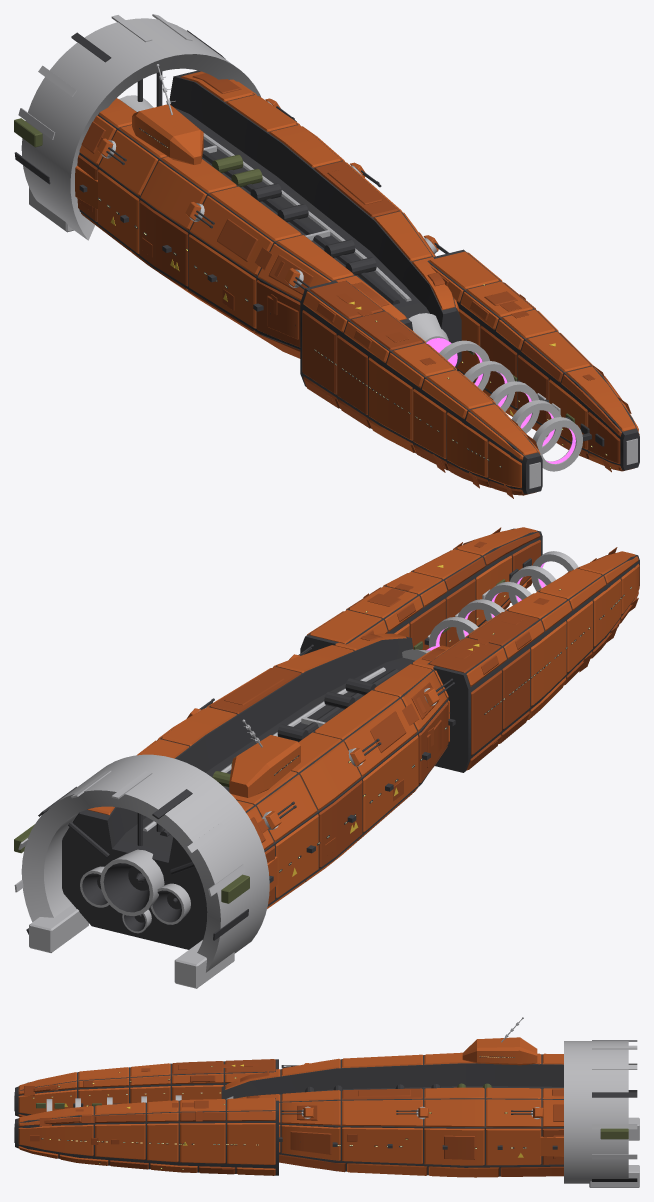
The model's file is enemy_dreadnought.glb.
The picture shows the model from 3 angles, top to bottom: view 1: azimuth 30°, elevation 25°; view 2: azimuth 150°, elevation 25°; view 3: azimuth 270°, elevation 25°; orthographic projection. The views are drawn at different scales.
Visible parts, largest first — view 1: enemy_dreadnought; view 2: enemy_dreadnought; view 3: enemy_dreadnought.
Part boxes in pixels (x1=…): enemy_dreadnought: x1=14, y1=14, x2=639, y2=498; enemy_dreadnought: x1=14, y1=527, x2=639, y2=988; enemy_dreadnought: x1=14, y1=1017, x2=639, y2=1187.
Size of the model in its own units: 115 by 103 by 436.
